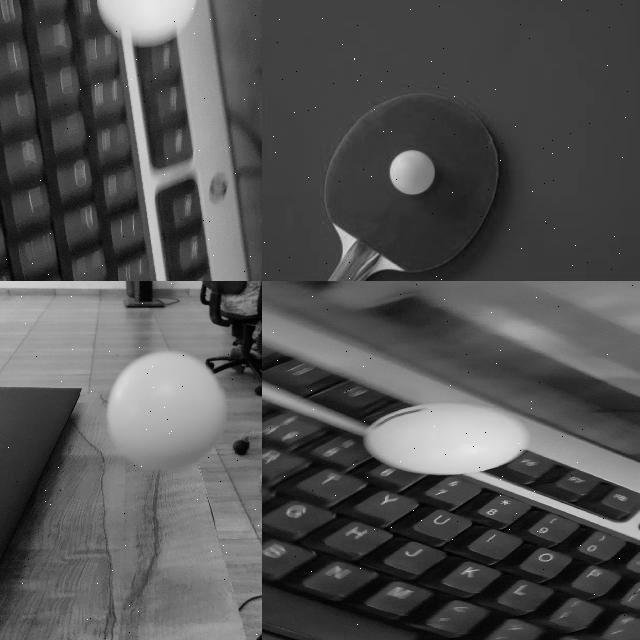ping-pong-ball: (107, 352, 227, 474), (370, 404, 520, 473), (96, 0, 196, 43), (391, 152, 433, 192)
